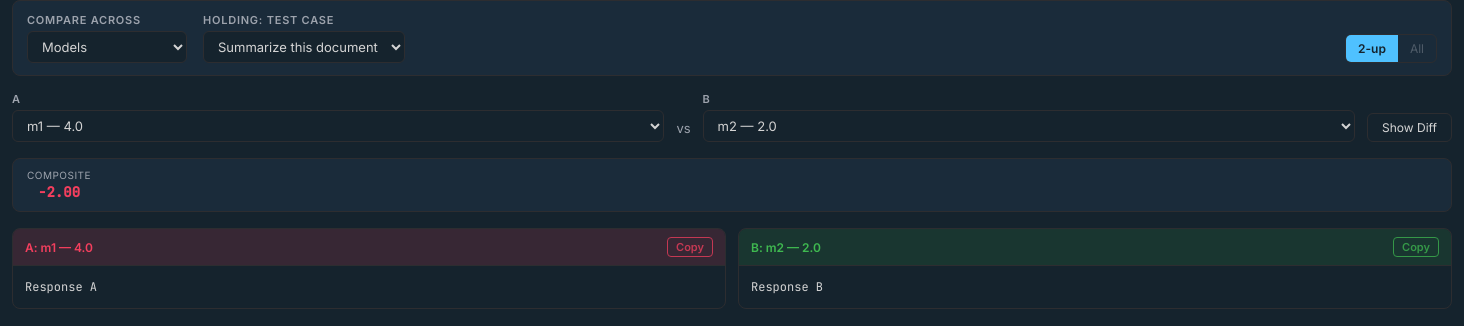
it: CompareView › copies the panel response to the clipboard
Click the button titled "Copy response to clipboard" in the row of "A: m1 — 4.0".
click(690, 247)  # box [667,237,713,257]
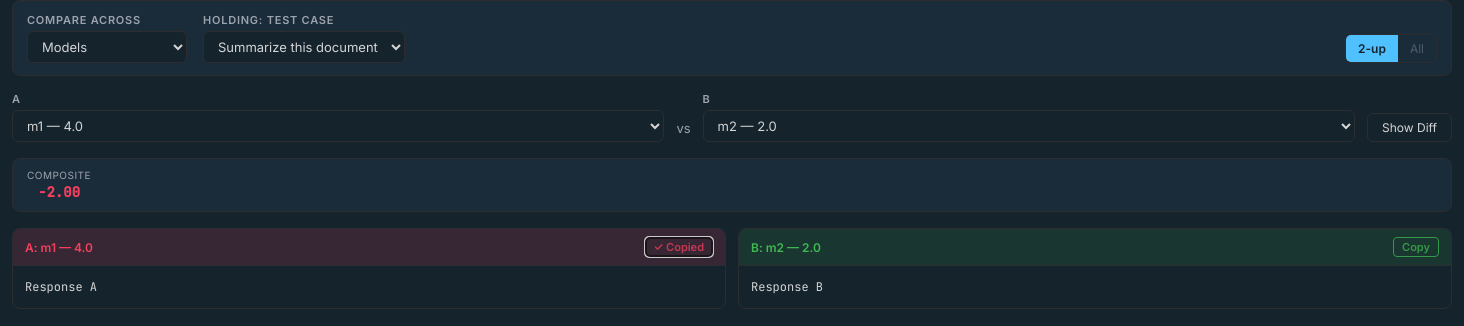
Now the button "✓ Copied" is shown, box [645,237,713,257]
